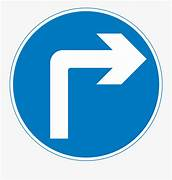right: (10, 6, 163, 161)
